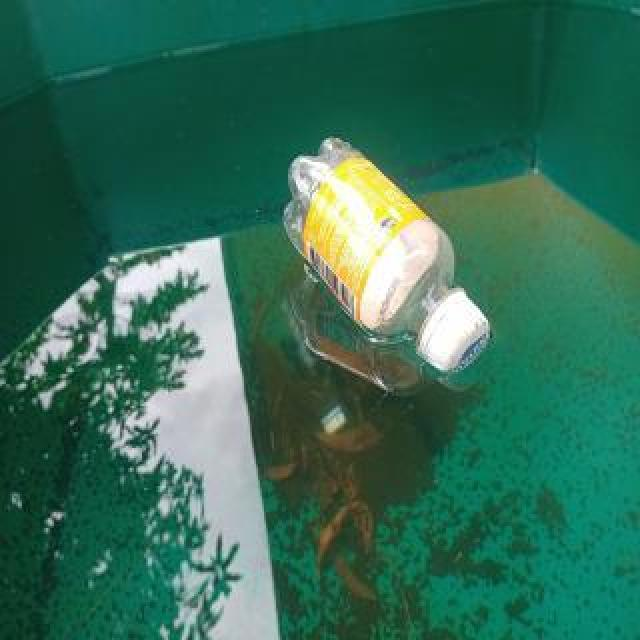bottle: (285, 133, 493, 377)
